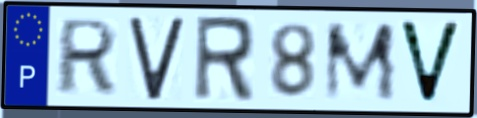8: (266, 21, 319, 100)
M: (321, 20, 399, 103)
R: (190, 14, 257, 105), (53, 17, 121, 97)
V: (395, 18, 465, 108), (126, 14, 188, 102)
